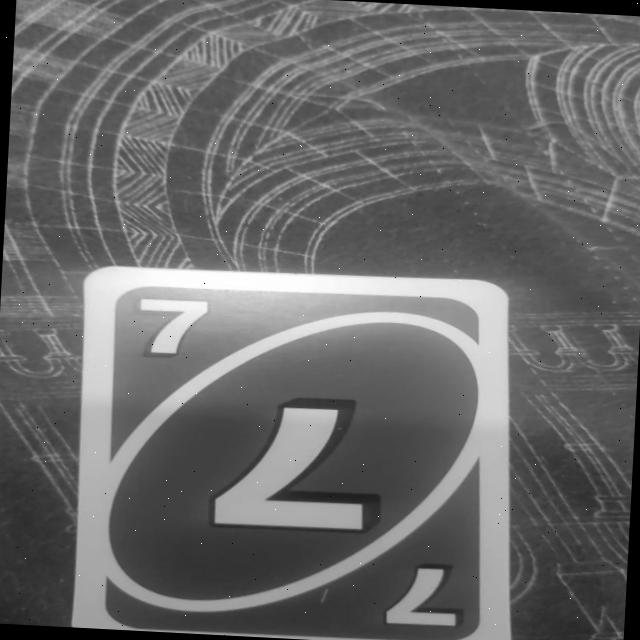card_7: (59, 257, 525, 640)
